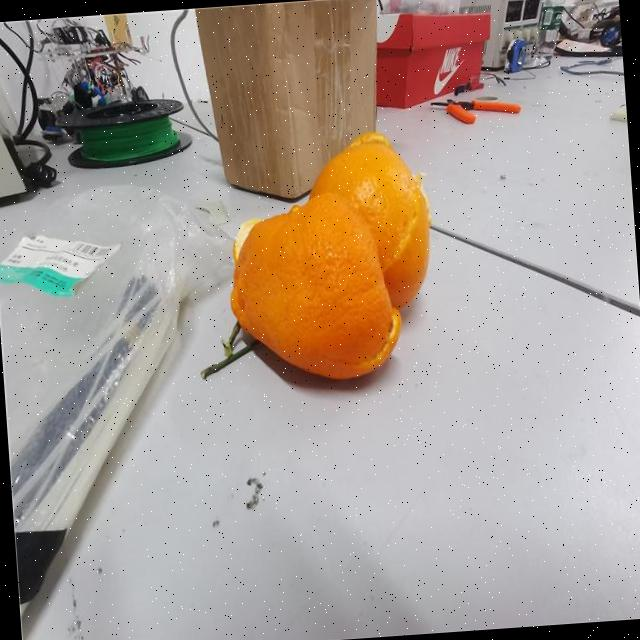orange-peel: (222, 187, 404, 387)
